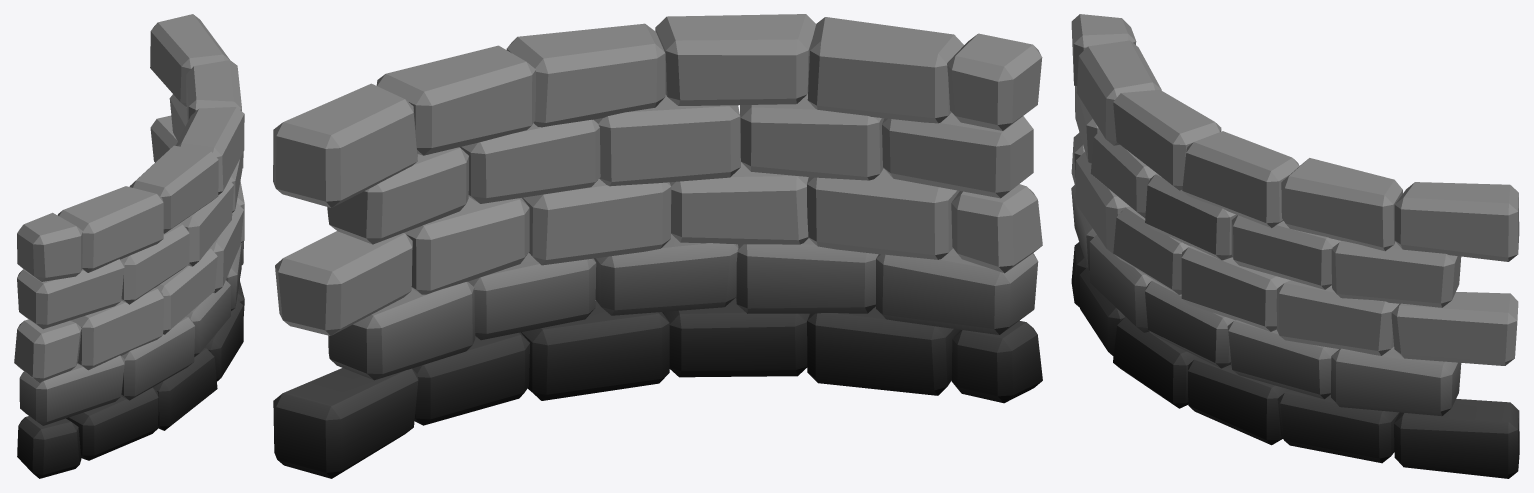
Rendered from BrickWall2x1_01_T90_End_R.fbx.
3 views of the same model, side by side, from view 1: azimuth 30°, elevation 25°; view 2: azimuth 150°, elevation 25°; view 3: azimuth 270°, elevation 25° (orthographic). The views are drawn at different scales.
Parts seen in each view (by area): view 1: BrickWall2x1_01_T90_End_R; view 2: BrickWall2x1_01_T90_End_R; view 3: BrickWall2x1_01_T90_End_R.
Boxes of the visible parts, <box> form: BrickWall2x1_01_T90_End_R: <box>14,14,244,478</box>; BrickWall2x1_01_T90_End_R: <box>273,14,1042,478</box>; BrickWall2x1_01_T90_End_R: <box>1071,14,1519,478</box>.
Size of the model in its own units: 155 by 101 by 149.
